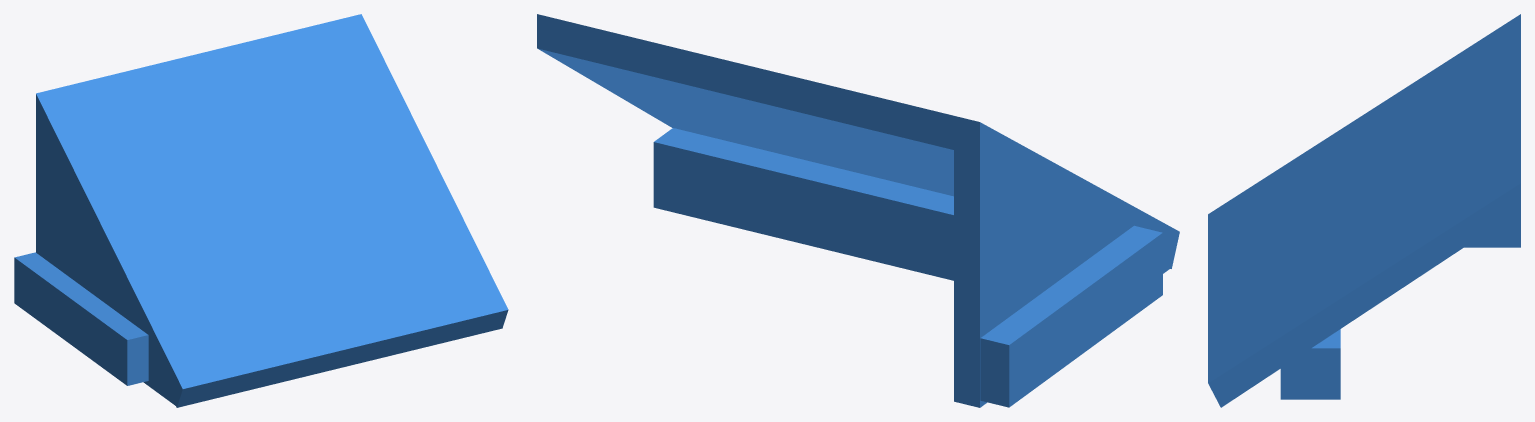
File: Collision_Roof_Wooden_2x1_L.fbx
3 renders of one model, left to right at view 1: azimuth 30°, elevation 25°; view 2: azimuth 150°, elevation 25°; view 3: azimuth 270°, elevation 25°, orthographic. The views are drawn at different scales.
Parts seen in each view (by area): view 1: UCX_Roof_Wooden_2x1_L_1; view 2: UCX_Roof_Wooden_2x1_L_1; view 3: UCX_Roof_Wooden_2x1_L_1.
Boxes of the visible parts, x1,y1,x2,y2 form: UCX_Roof_Wooden_2x1_L_1: (14,14,508,407); UCX_Roof_Wooden_2x1_L_1: (537,14,1179,407); UCX_Roof_Wooden_2x1_L_1: (1208,14,1520,407).
Bounding box in the file's own units: 213 × 124 × 156.
